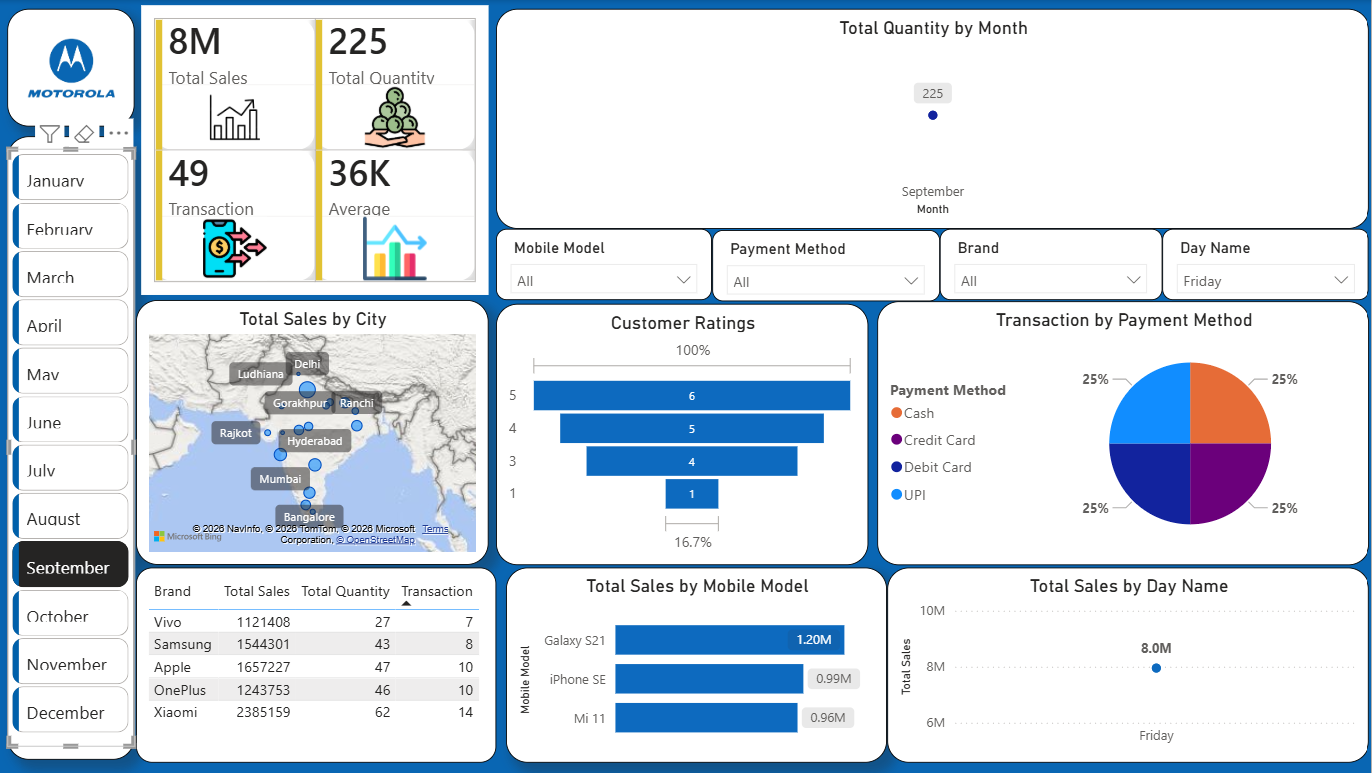

The dashboard page shown, as its layout file describes it:
{"tool":"powerbi","page":{"name":"Page 1","canvas":[1280,720],"ordinal":0},"visuals":[{"type":"shape","box":[10.5,8.1,118.6,109.3],"z":0},{"type":"image","box":[18.6,19.8,101.2,87.2],"z":1000},{"type":"shape","box":[10.5,126.7,118.6,580.2],"z":2000},{"type":"advancedSlicerVisual","fields":{"Values":["Sales_Data.Date.Variation.Date Hierarchy.Month"]},"box":[10.5,138.4,118.6,557],"z":3000},{"type":"cardVisual","fields":{"Data":["Sales_Data.Total Sales","Sales_Data.Total Quantity","Sales_Data.Transaction","Sales_Data.Average"]},"box":[130.2,0,334.9,279.1],"z":4000},{"type":"map","fields":{"Size":["Sales_Data.Total Sales"],"Category":["Sales_Data.City"]},"box":[130.2,279.1,327.9,246.5],"z":5000},{"type":"lineChart","fields":{"Category":["Sales_Data.Date.Variation.Date Hierarchy.Month","Sales_Data.Date.Variation.Date Hierarchy.Day"],"Y":["Sales_Data.Total Quantity"]},"box":[465.1,8.1,812.8,204.7],"z":6000},{"type":"clusteredBarChart","fields":{"Category":["Sales_Data.Mobile Model"],"Y":["Sales_Data.Total Sales"]},"box":[474.4,527.9,354.7,181.4],"z":7000},{"type":"pieChart","fields":{"Category":["Sales_Data.Payment Method"],"Y":["Sales_Data.Transaction"]},"box":[819.8,280.2,458.1,245.3],"z":8000},{"type":"funnel","title":"Customer Ratings","fields":{"Category":["Sales_Data.Customer Ratings"],"Y":["CountNonNull(Sales_Data.Customer Ratings)"]},"box":[465.1,282.6,346.5,243],"z":9000},{"type":"areaChart","fields":{"Category":["Sales_Data.Day Name"],"Y":["Sales_Data.Total Sales"]},"box":[829.1,527.9,448.8,181.4],"z":10000},{"type":"tableEx","fields":{"Values":["Sales_Data.Brand","Sales_Data.Total Sales","Sales_Data.Total Quantity","Sales_Data.Transaction"]},"box":[130.2,527.9,334.9,181.4],"z":11000},{"type":"slicer","fields":{"Values":["Sales_Data.Mobile Model"]},"box":[465.1,212.8,201.2,66.3],"z":12000},{"type":"slicer","fields":{"Values":["Sales_Data.Payment Method"]},"box":[666.3,214,211.6,66.3],"z":13000},{"type":"slicer","fields":{"Values":["Sales_Data.Brand"]},"box":[877.9,212.8,207,66.3],"z":14000},{"type":"slicer","fields":{"Values":["Sales_Data.Day Name"]},"box":[1084.9,212.8,193,66.3],"z":15000}]}

Visuals, with their boxes in screenshot pixels (x1, y1, x2, y2), scaled from the page's 1280x720 canvas onto the 1372x773 screenshot:
shape: 11/9/138/126
image: 20/21/128/115
shape: 11/136/138/759
advancedSlicerVisual - Sales_Data.Date.Variation.Date Hierarchy.Month: 11/149/138/747
cardVisual - Sales_Data.Total Sales x Sales_Data.Total Quantity: 140/0/499/300
map - Sales_Data.Total Sales x Sales_Data.City: 140/300/491/564
lineChart - Sales_Data.Date.Variation.Date Hierarchy.Month x Sales_Data.Date.Variation.Date Hierarchy.Day: 499/9/1370/228
clusteredBarChart - Sales_Data.Mobile Model x Sales_Data.Total Sales: 508/567/889/762
pieChart - Sales_Data.Payment Method x Sales_Data.Transaction: 879/301/1370/564
"Customer Ratings" funnel: 499/303/870/564
areaChart - Sales_Data.Day Name x Sales_Data.Total Sales: 889/567/1370/762
tableEx - Sales_Data.Brand x Sales_Data.Total Sales: 140/567/499/762
slicer - Sales_Data.Mobile Model: 499/228/714/300
slicer - Sales_Data.Payment Method: 714/230/941/301
slicer - Sales_Data.Brand: 941/228/1163/300
slicer - Sales_Data.Day Name: 1163/228/1370/300
